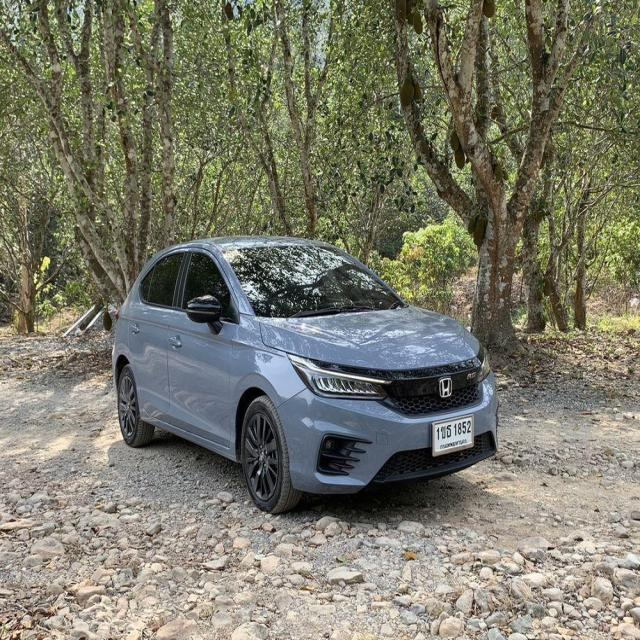Hatchback: (111, 237, 498, 516)
